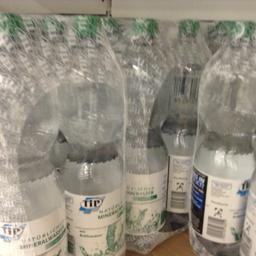water: (56, 12, 128, 254), (0, 12, 67, 254), (191, 20, 255, 252), (116, 18, 170, 252)
